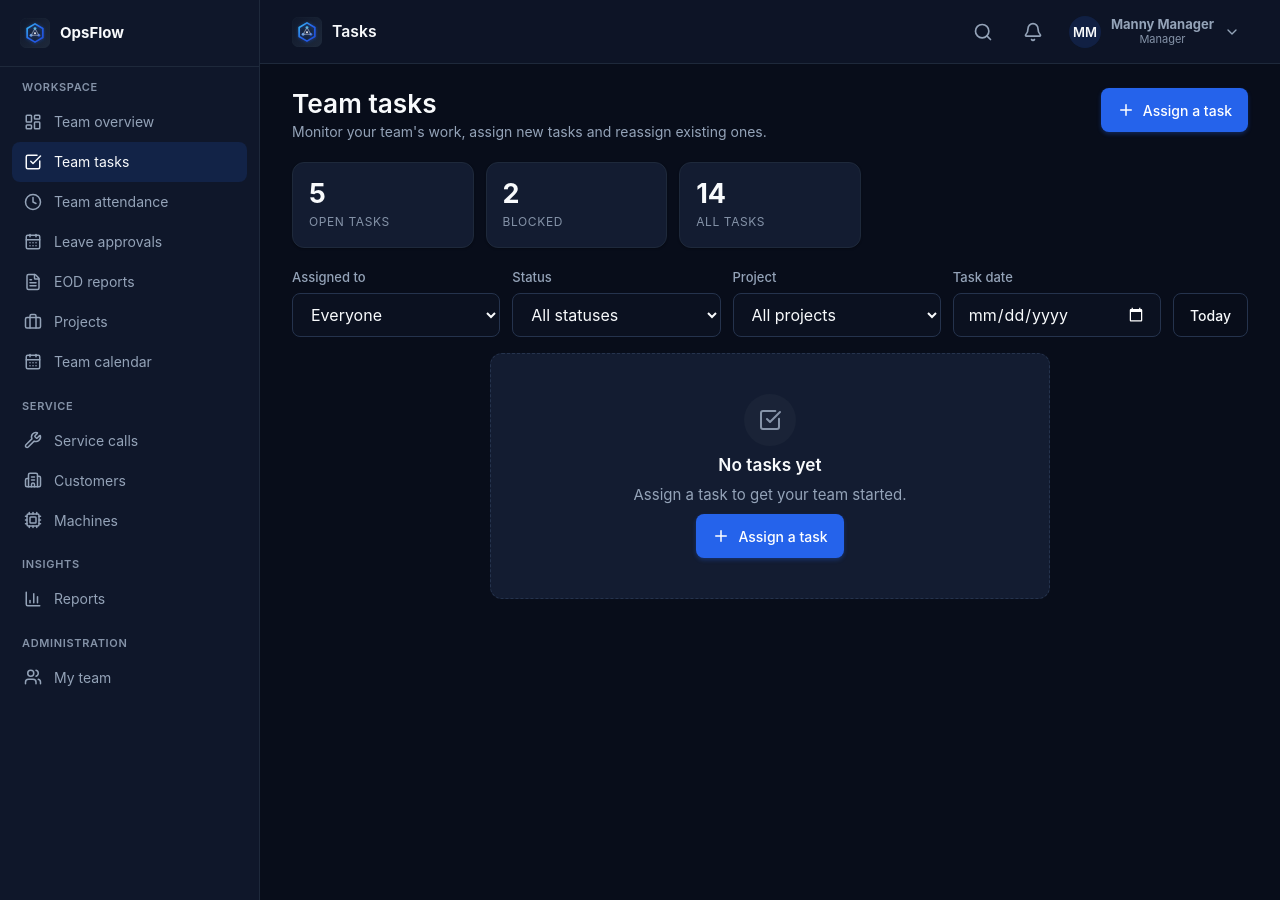
Test case: Team tasks › refuses a due date before the task date in the form
Click the 1st button "Assign a task".
click(1174, 110)  # box [1101,88,1248,132]
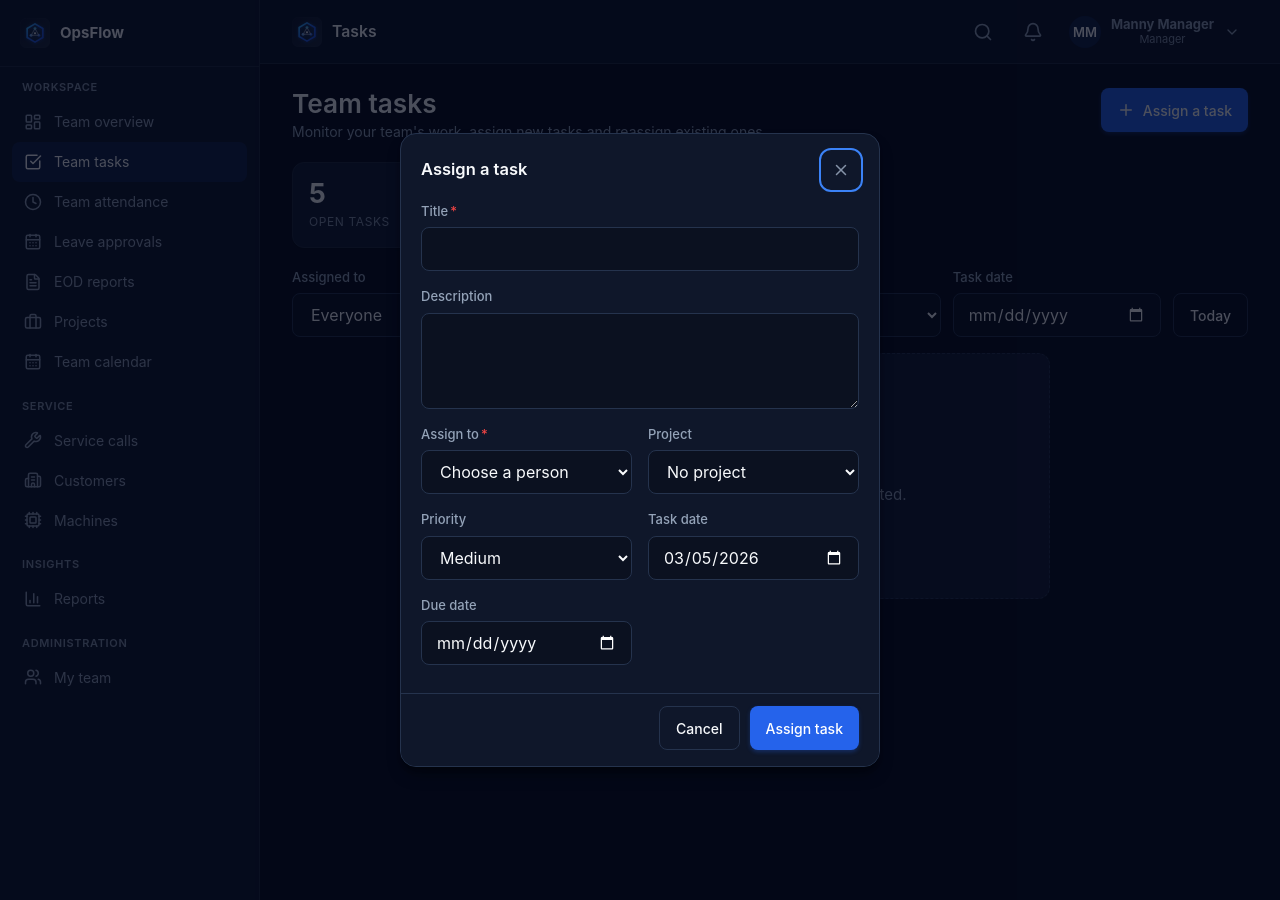
Type "X" into the field labelled "Title*".
click(640, 249); type("X")  # box [421,227,859,271]
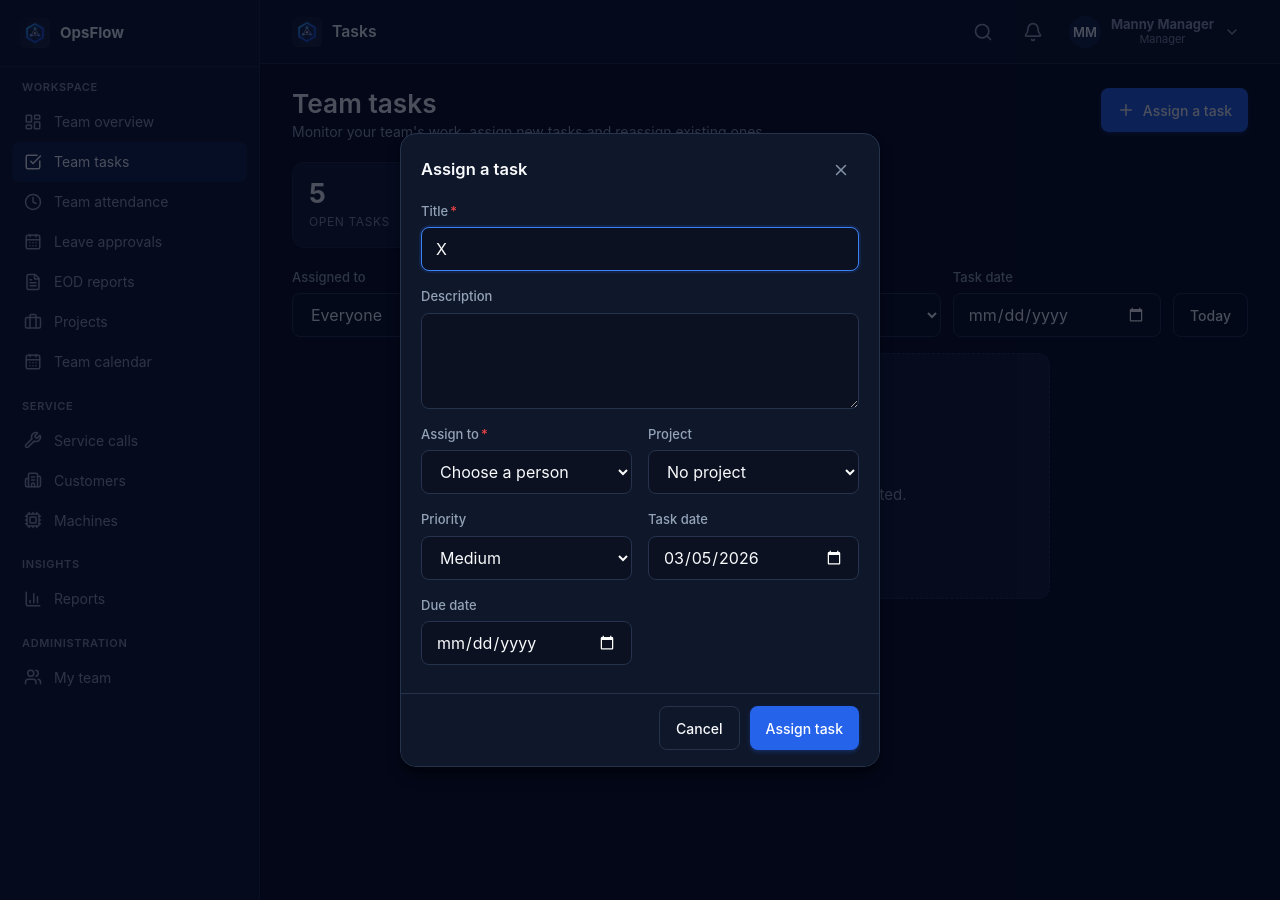
Select "Erin Employee · Service Engineer" in the dropdown labelled "Assign to*" at [526, 472], box [421,450,632,494]
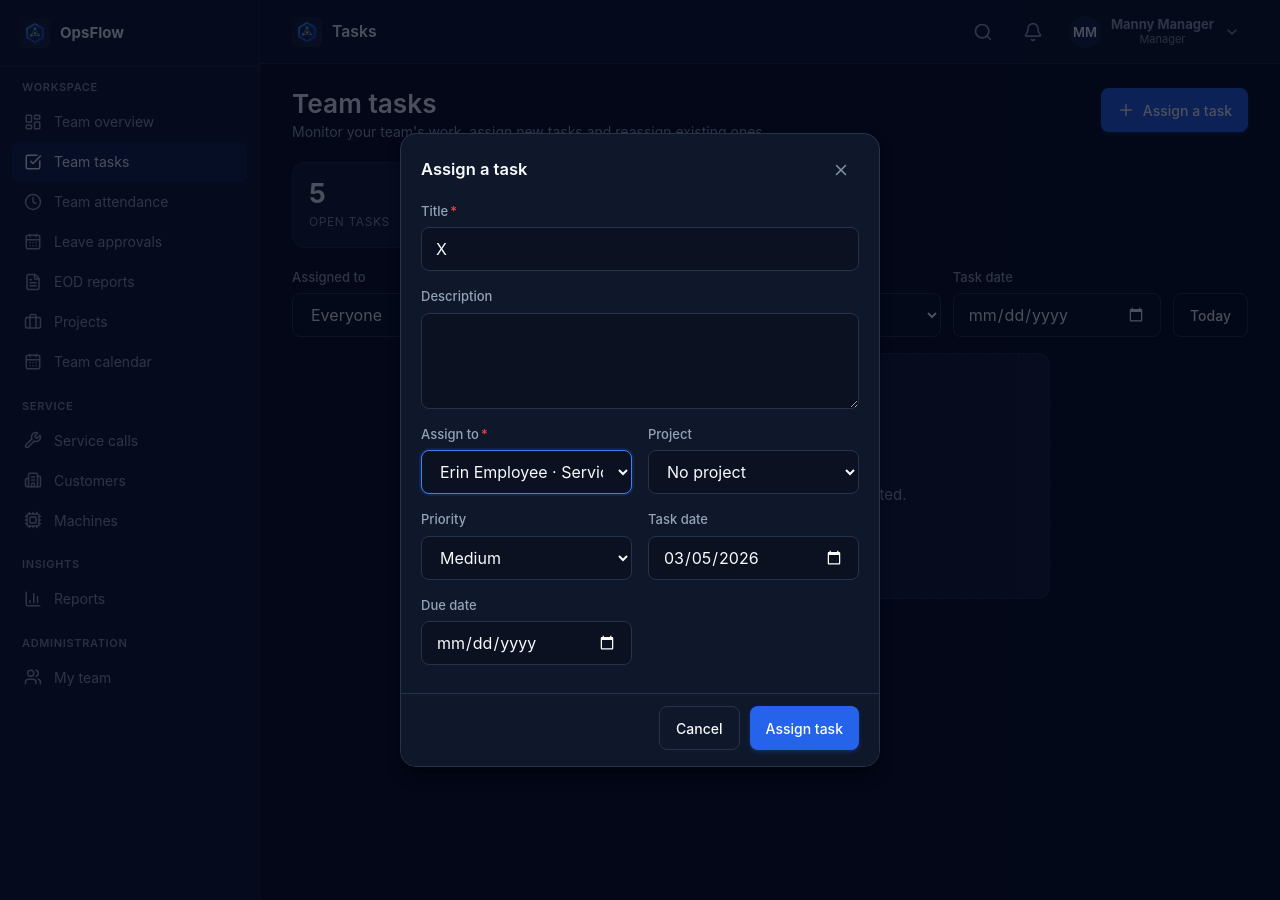
Type "2026-03-01" into the date field labelled "Due date".
click(526, 643); type("2026-03-01")  # box [421,621,632,665]
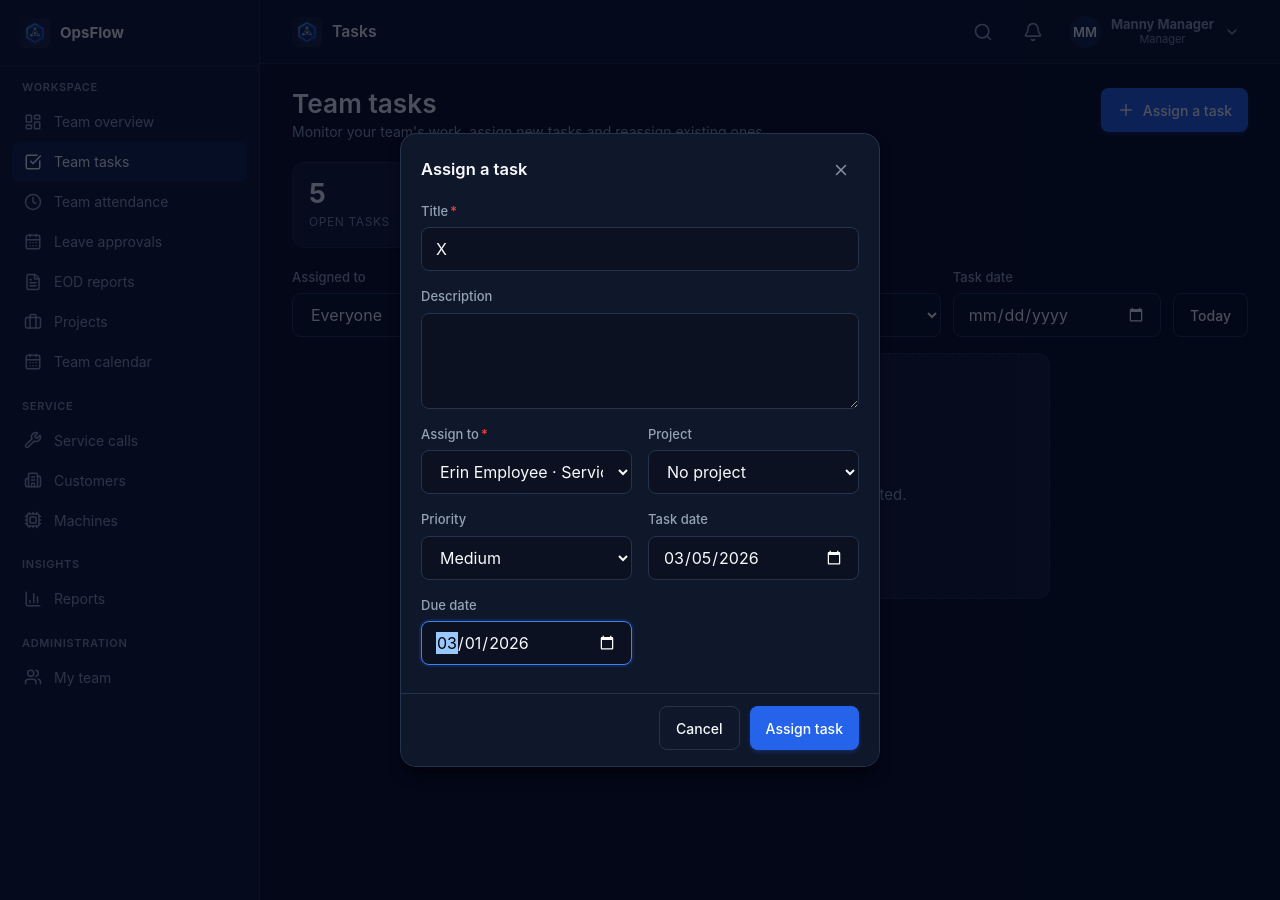
Click the button "Assign task".
click(804, 728)  # box [750,706,859,750]
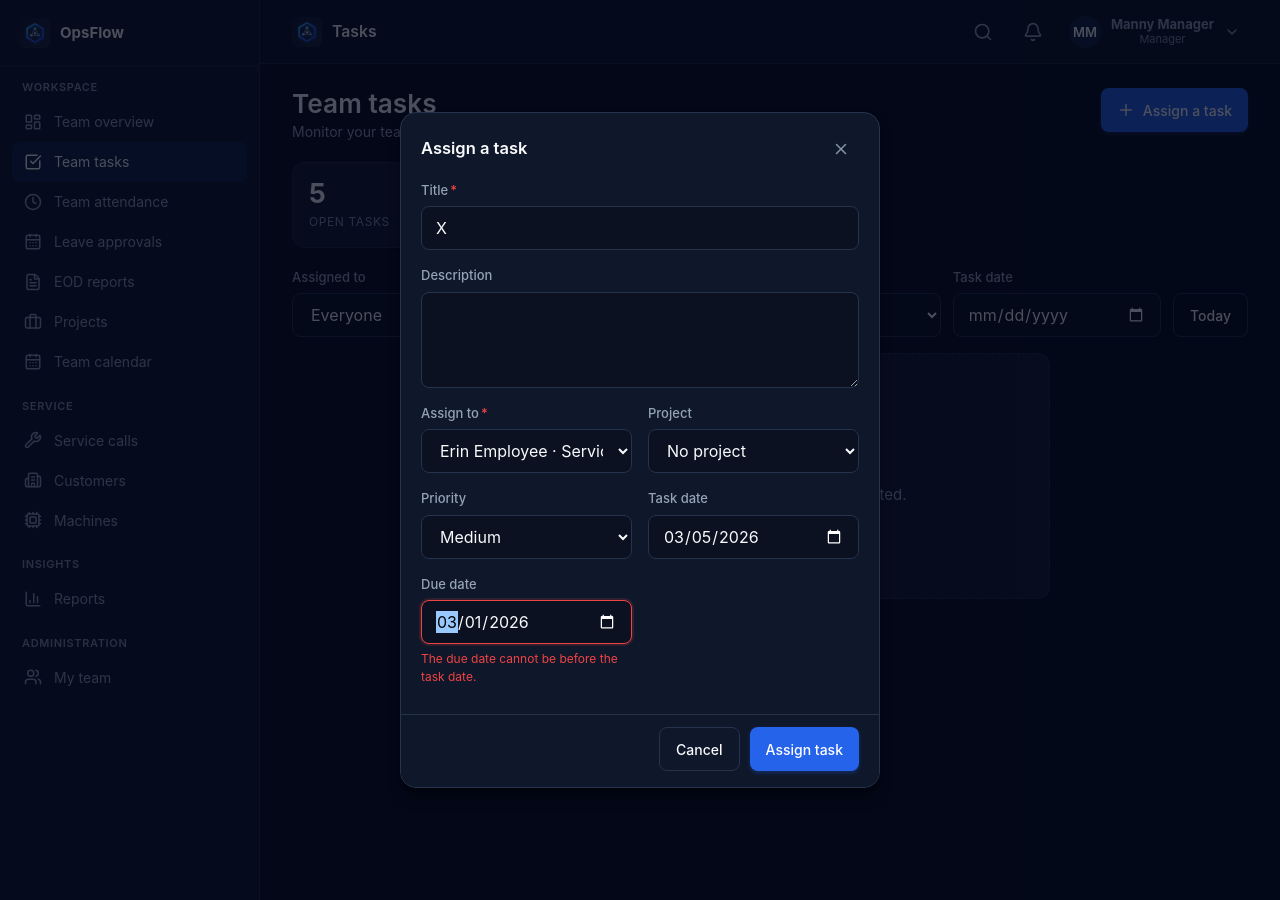
Check: the text "The due date cannot be before the task date." is shown, box [421,650,632,686]
